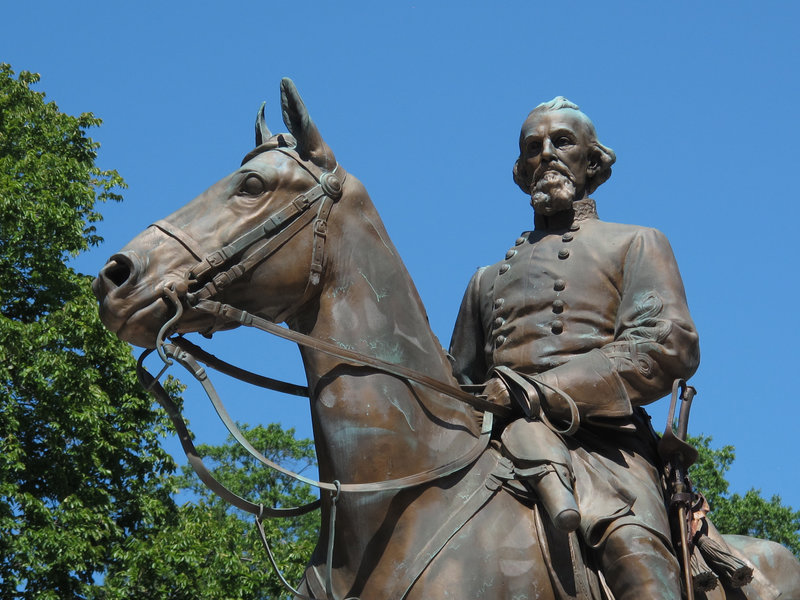person-like: (436, 90, 711, 600)
